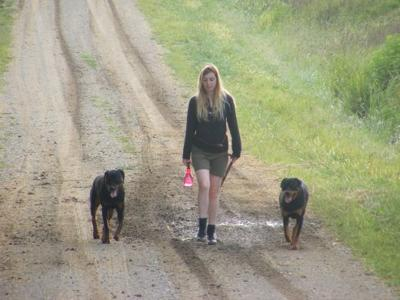person: (183, 65, 242, 245)
